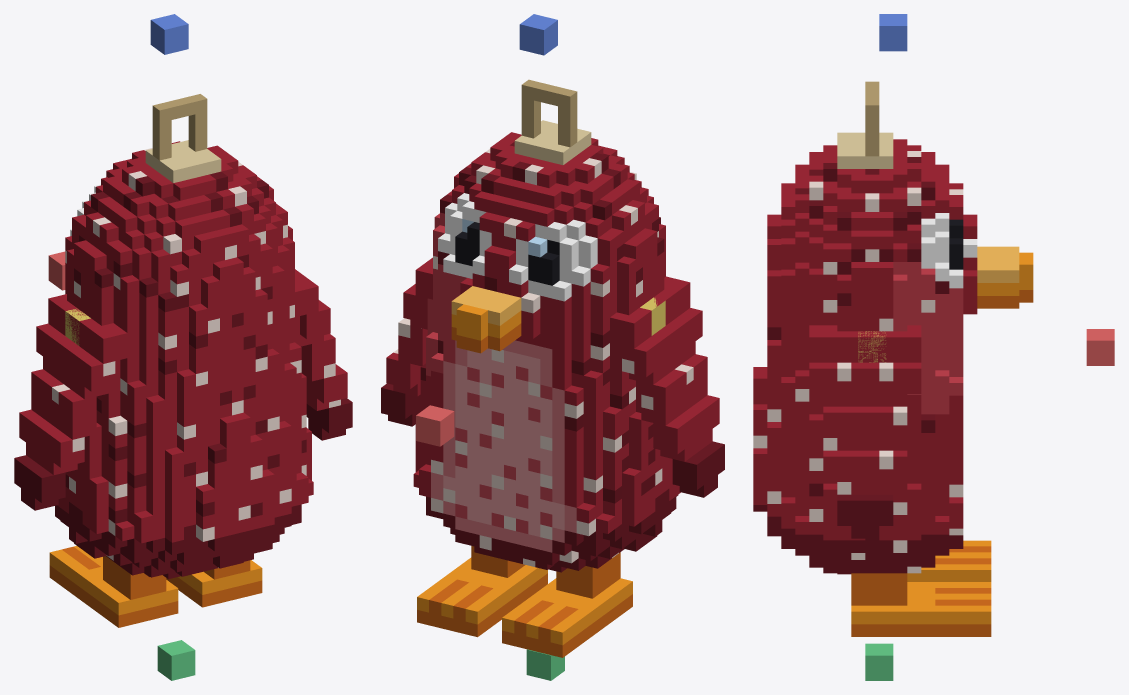
Rendered from SalaminoPenguino.glb.
3 renders of one model, left to right at view 1: azimuth 30°, elevation 25°; view 2: azimuth 150°, elevation 25°; view 3: azimuth 270°, elevation 25°, orthographic.
Parts seen in each view (by area): view 1: SalaminoPenguino_Body, SalaminoPenguino_Arm2, SalaminoPenguino_Leg4, SalaminoPenguino_Arm1, SalaminoPenguino_Leg3, SalaminoPenguino_Built, SalaminoPenguino_Top, SalaminoPenguino_Front; view 2: SalaminoPenguino_Body, SalaminoPenguino_Arm2, SalaminoPenguino_Leg4, SalaminoPenguino_Leg3, SalaminoPenguino_Arm1, SalaminoPenguino_Front, SalaminoPenguino_Top, SalaminoPenguino_Built, SalaminoPenguino_Pivot2; view 3: SalaminoPenguino_Body, SalaminoPenguino_Arm1, SalaminoPenguino_Leg3, SalaminoPenguino_Leg4, SalaminoPenguino_Top, SalaminoPenguino_Built, SalaminoPenguino_Front.
Part boxes in pixels (bbox=[...]): SalaminoPenguino_Body: bbox=[55, 94, 313, 579]; SalaminoPenguino_Arm2: bbox=[14, 294, 127, 510]; SalaminoPenguino_Leg4: bbox=[49, 546, 178, 627]; SalaminoPenguino_Arm1: bbox=[295, 269, 352, 440]; SalaminoPenguino_Leg3: bbox=[166, 560, 262, 607]; SalaminoPenguino_Built: bbox=[157, 640, 195, 680]; SalaminoPenguino_Top: bbox=[150, 14, 188, 54]; SalaminoPenguino_Front: bbox=[48, 251, 65, 290]; SalaminoPenguino_Body: bbox=[413, 79, 680, 572]; SalaminoPenguino_Arm2: bbox=[610, 276, 724, 497]; SalaminoPenguino_Leg4: bbox=[502, 552, 632, 657]; SalaminoPenguino_Leg3: bbox=[417, 546, 547, 637]; SalaminoPenguino_Arm1: bbox=[381, 257, 432, 426]; SalaminoPenguino_Front: bbox=[416, 405, 454, 446]; SalaminoPenguino_Top: bbox=[519, 14, 557, 55]; SalaminoPenguino_Built: bbox=[526, 649, 564, 680]; SalaminoPenguino_Pivot2: bbox=[640, 297, 665, 335]; SalaminoPenguino_Body: bbox=[753, 81, 1033, 574]; SalaminoPenguino_Arm1: bbox=[809, 325, 921, 538]; SalaminoPenguino_Leg3: bbox=[851, 573, 991, 636]; SalaminoPenguino_Leg4: bbox=[907, 540, 991, 581]; SalaminoPenguino_Top: bbox=[879, 14, 907, 51]; SalaminoPenguino_Built: bbox=[865, 643, 893, 680]; SalaminoPenguino_Front: bbox=[1086, 329, 1114, 365].
Bounding box in the file's own units: 3.25 × 6.45 × 3.23.
Materials: 1 (1 with a texture image).
